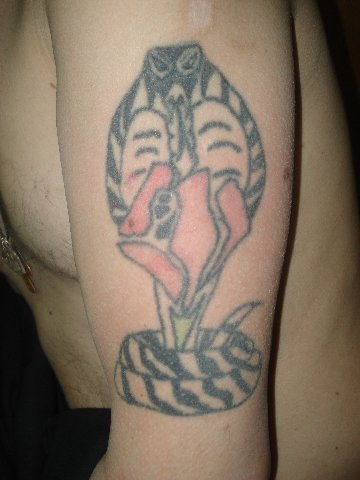tatu7_zmeya: (84, 35, 283, 429)
